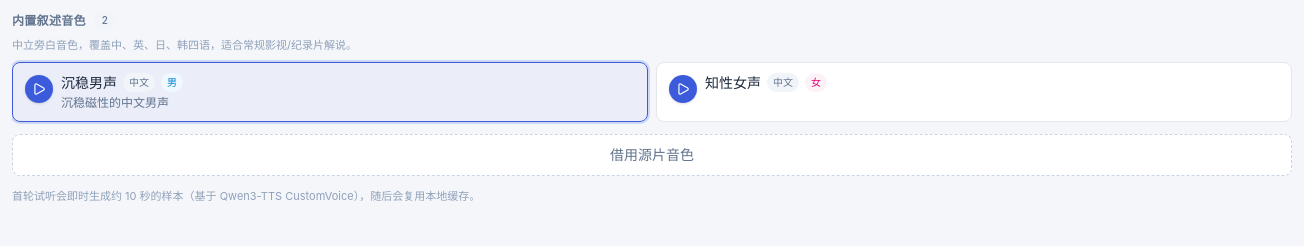
Test case: NarratorVoicePicker.handlePreview › shows a generic backend error message when 500 body is not JSON
What coordinates should you click on to do the following:
click the 1st button named "试听"
I would click on:
 (39, 89)
Its box is [25,75,53,103].
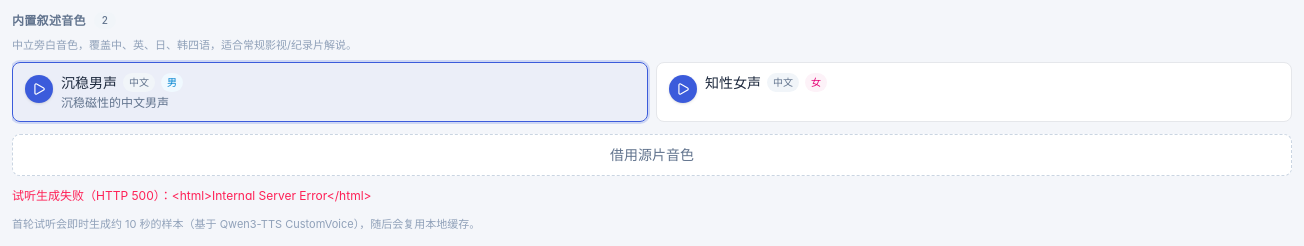
Expected: the message shows "试听生成失败（HTTP 500）", [12,188,372,203]
